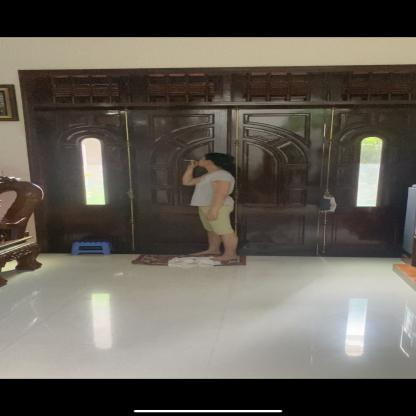cigarette: (182, 159, 195, 162)
person: (183, 150, 240, 265)
